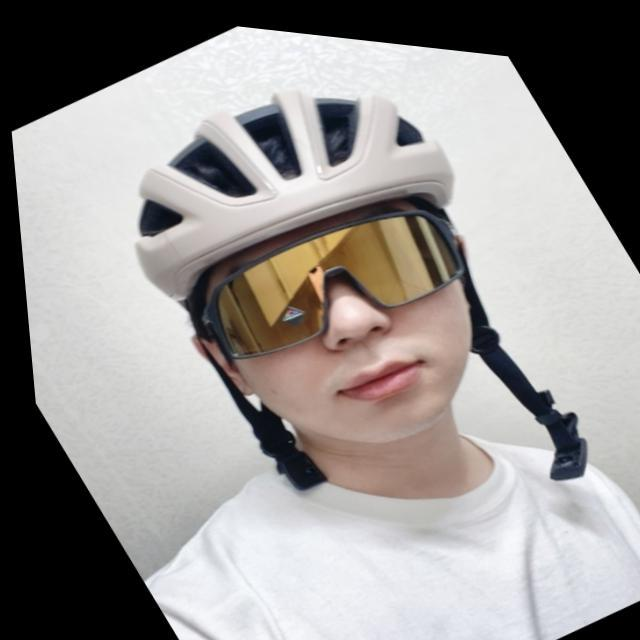Helmet: (131, 86, 488, 454)
